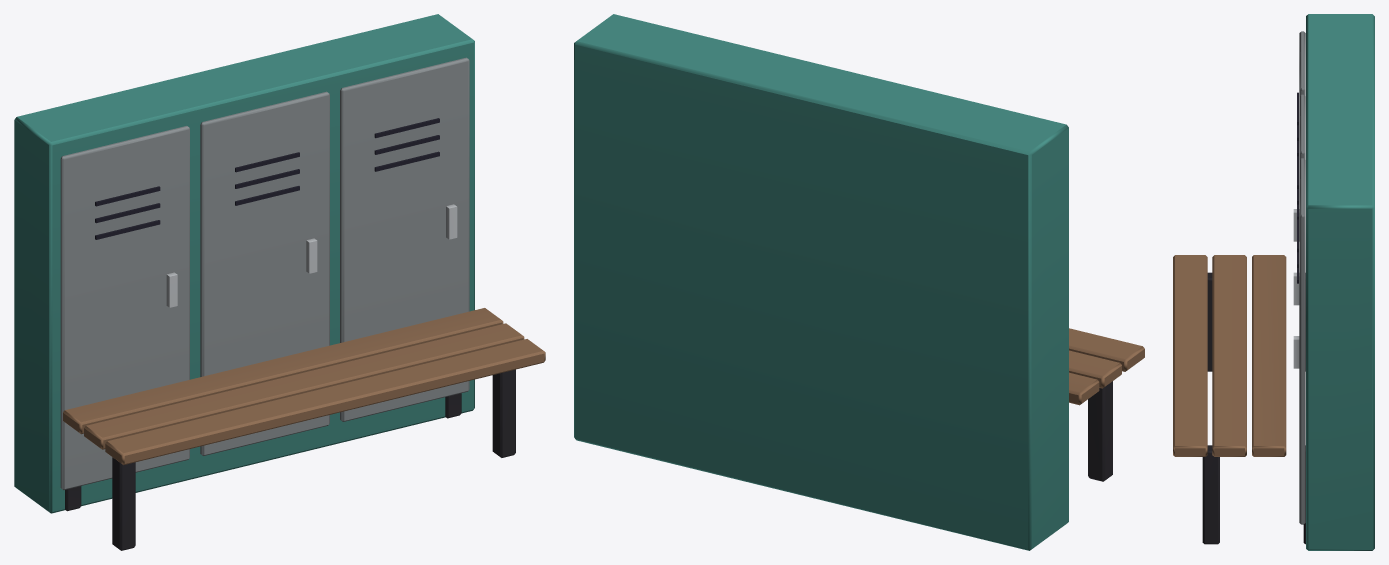
The model's file is bench_locker.glb.
3 renders of one model, left to right at view 1: azimuth 30°, elevation 25°; view 2: azimuth 150°, elevation 25°; view 3: azimuth 270°, elevation 25°, orthographic. The views are drawn at different scales.
Parts seen in each view (by area): view 1: bench_locker; view 2: bench_locker; view 3: bench_locker.
Part boxes in pixels (x1,y1,x2,y2): bench_locker: [14, 14, 545, 550]; bench_locker: [574, 14, 1144, 550]; bench_locker: [1173, 14, 1374, 550].
Bounding box in the file's own units: 1.86 × 1.55 × 0.82.
